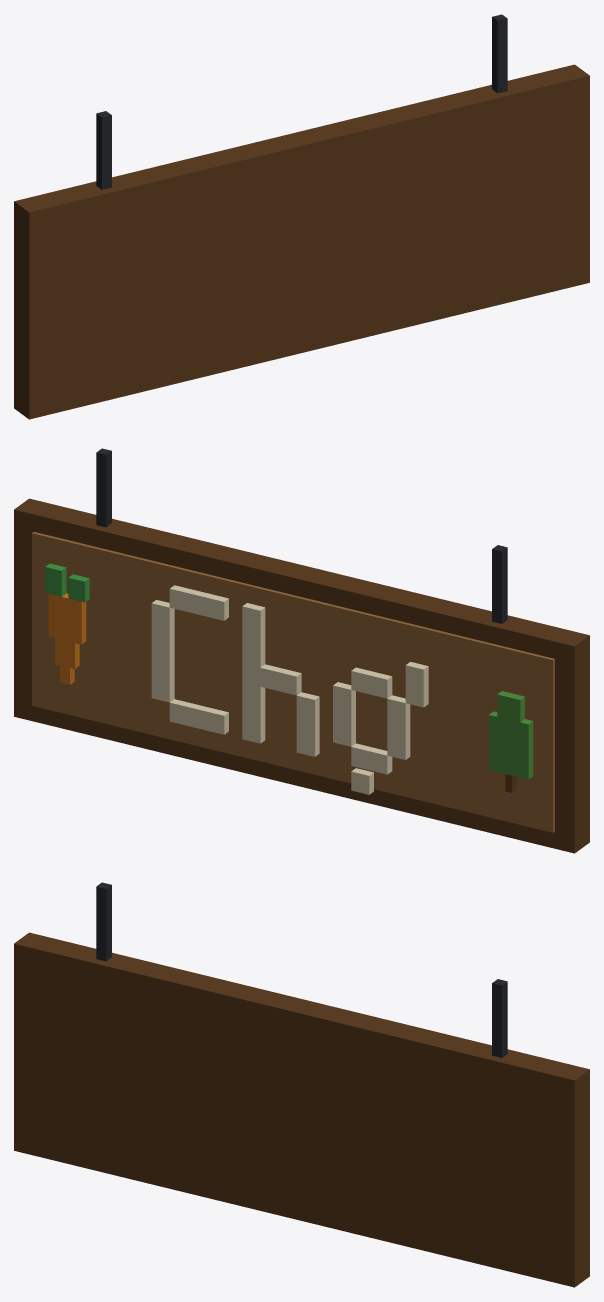
File: cp-sign-cho.glb
3 renders of one model, top to bottom at view 1: azimuth 30°, elevation 25°; view 2: azimuth 150°, elevation 25°; view 3: azimuth 330°, elevation 25°, orthographic.
Visible parts, largest first — view 1: box-prop; view 2: box-prop; view 3: box-prop.
Part boxes in pixels (x1=…): box-prop: x1=14, y1=14, x2=589, y2=419; box-prop: x1=14, y1=448, x2=589, y2=853; box-prop: x1=14, y1=882, x2=589, y2=1287.
Bounding box in the file's own units: 3.4 × 1.62 × 0.23.
